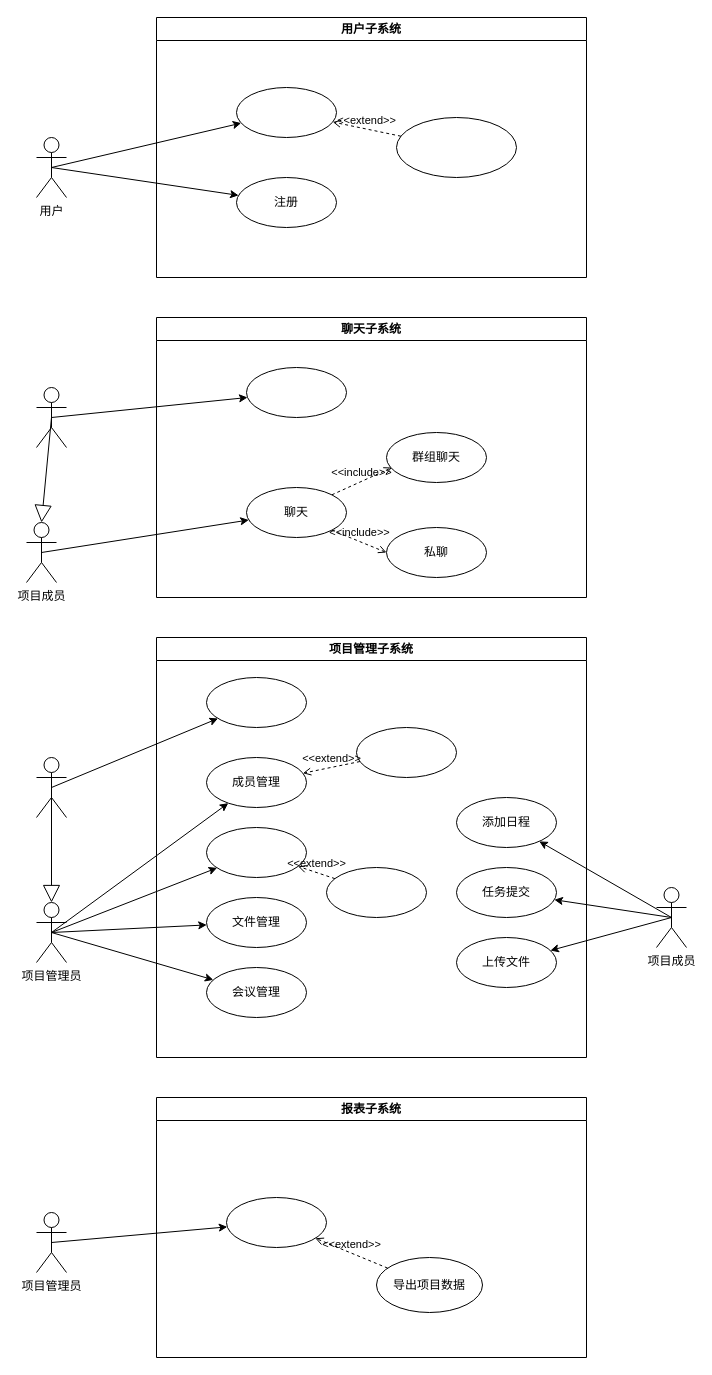
Image size: 712x1375. Some labels were removed from this diagram. Each missing label, with the centre of its shape:
修改个人信息: the point at 456,147
创建项目: the point at 256,702
发布任务: the point at 256,852
审批任务: the point at 376,892
权限管理: the point at 406,752
查看项目数据: the point at 276,1222
登录: the point at 286,112
群聊管理: the point at 296,392
群聊管理员: the point at 51,417
项目拥有者: the point at 51,787
